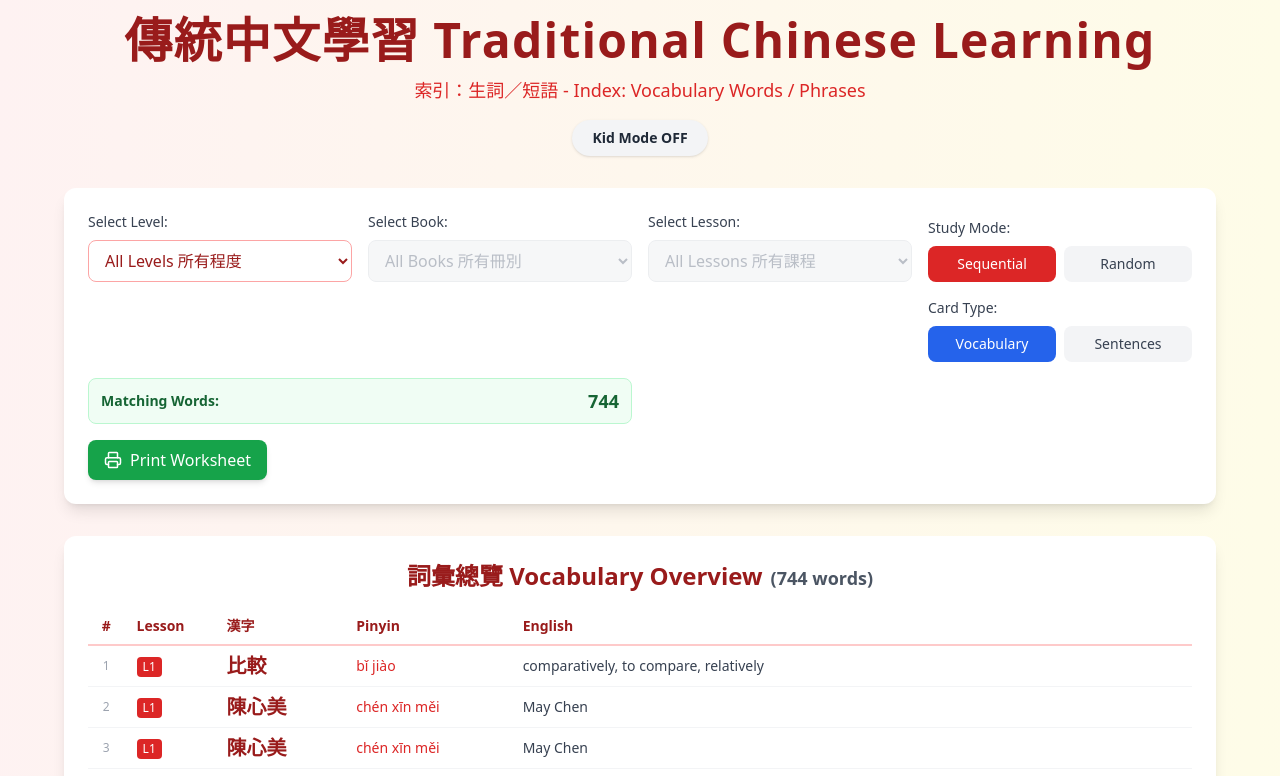
Test: ChineseLearningApp filters › updates count when filtering by level and book
Step 1. Select "Level K2" in the dropdown labelled "Select Level:" → (220, 261), box [88,240,352,282]
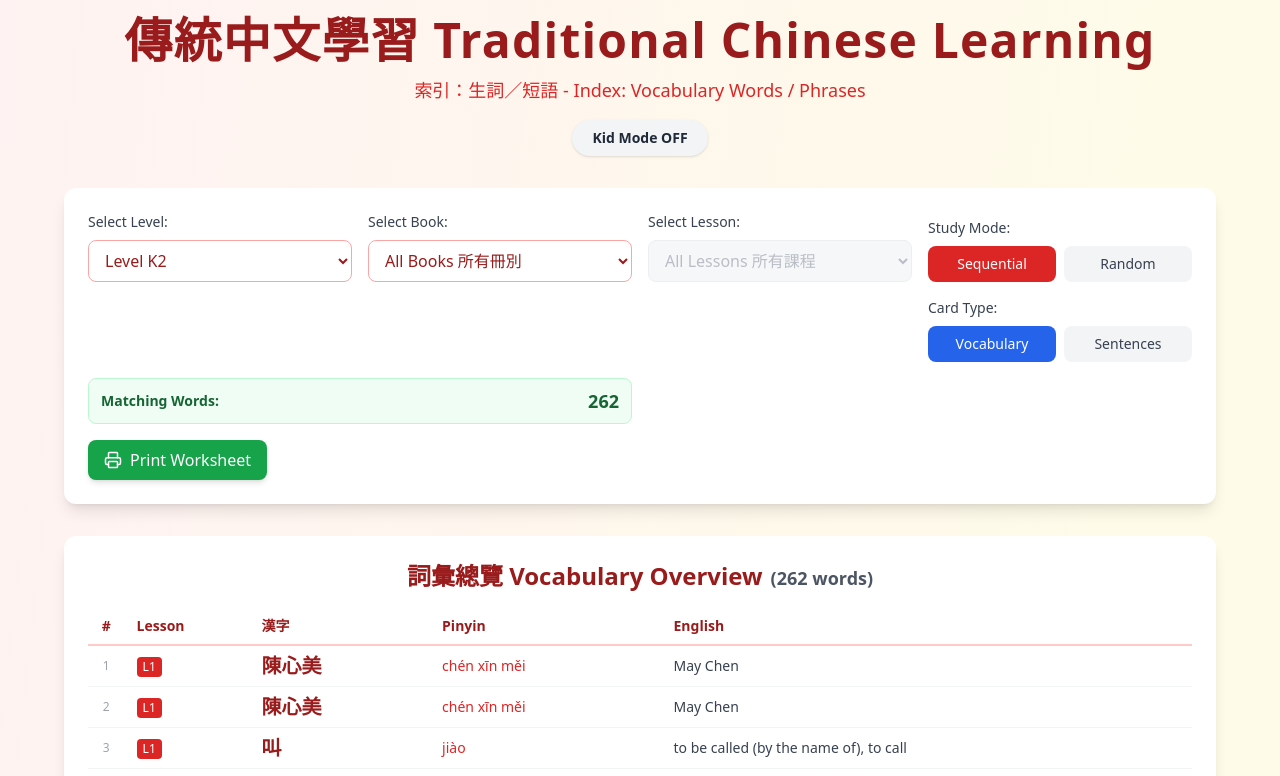
Now the dropdown labelled "Select Book:" is enabled
Step 2. Select "Book B" in the dropdown labelled "Select Book:" → (500, 261), box [368,240,632,282]
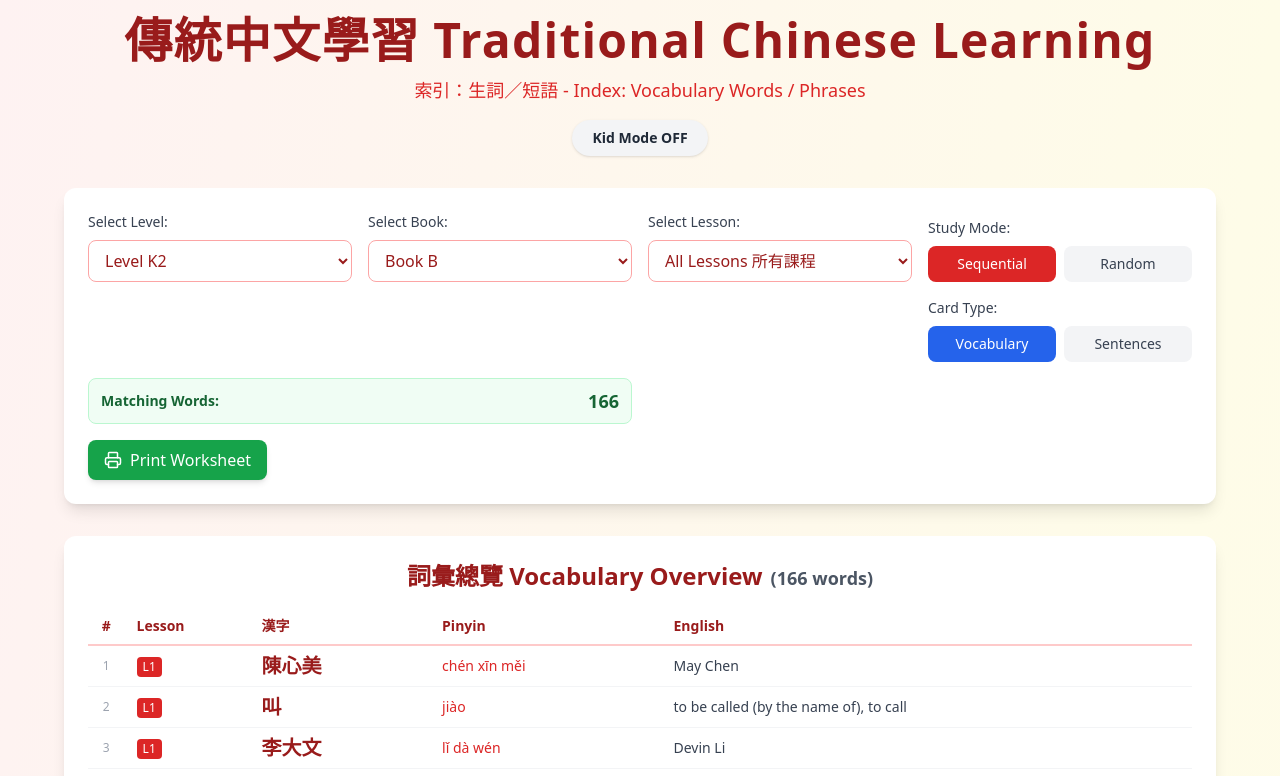
Now the dropdown labelled "Select Lesson:" is enabled
Step 3. Select "Lesson L1 第1課" in the dropdown labelled "Select Lesson:" → (780, 261), box [648,240,912,282]
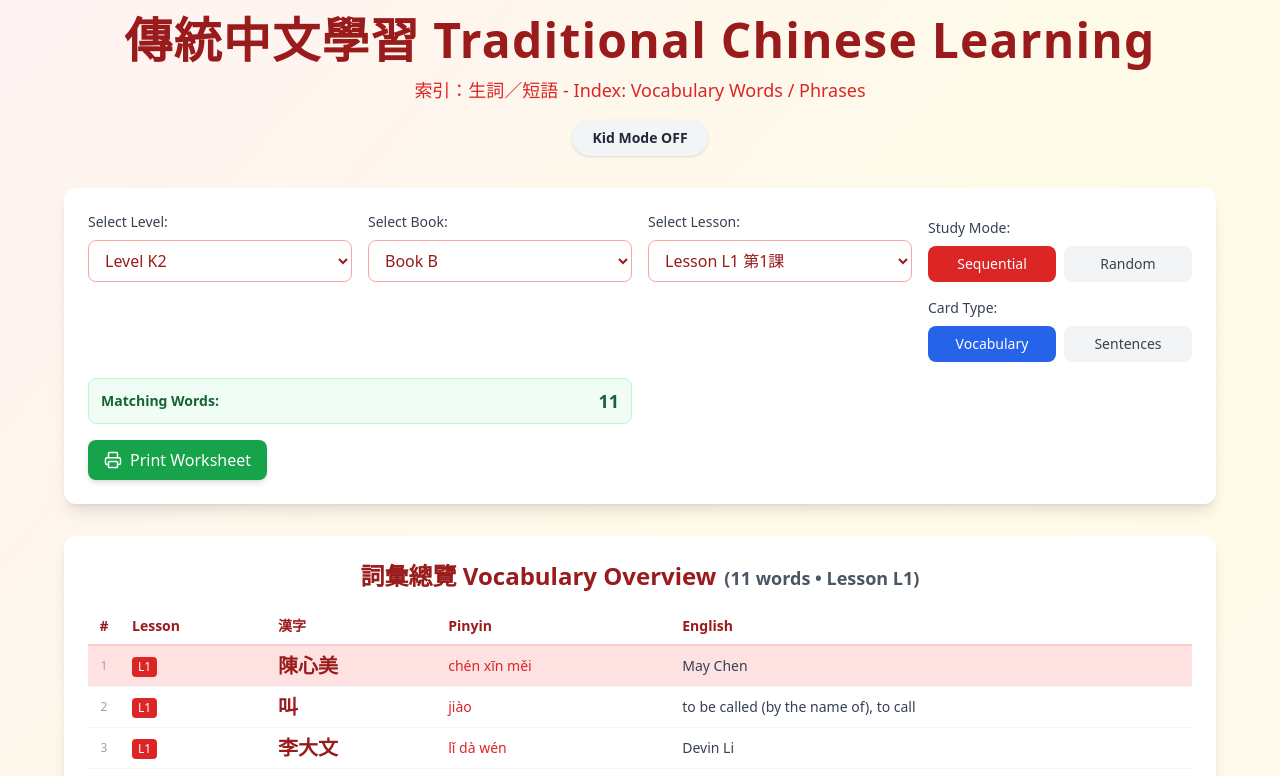
Now the text with test id "filter-count" reads "11", box [598,389,619,413]
